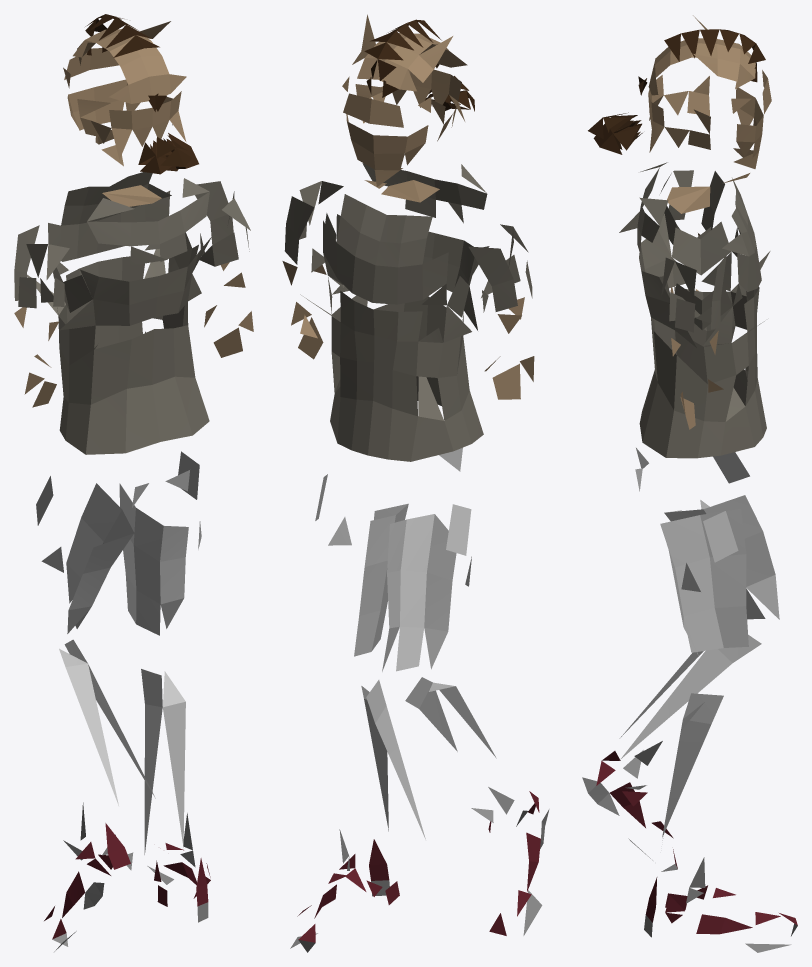
File: personfar_9_w3.fbx
3 views of the same model, side by side, from view 1: azimuth 30°, elevation 25°; view 2: azimuth 150°, elevation 25°; view 3: azimuth 270°, elevation 25° (orthographic). The views are drawn at different scales.
Visible parts, largest first — view 1: Casual2_Feet; view 2: Casual2_Feet; view 3: Casual2_Feet.
Part boxes in pixels (bbox=[...]): Casual2_Feet: bbox=[14, 14, 253, 951]; Casual2_Feet: bbox=[282, 14, 549, 952]; Casual2_Feet: bbox=[582, 15, 797, 952].
Size of the model in its own units: 0.2759 by 0.999 by 0.2247.
